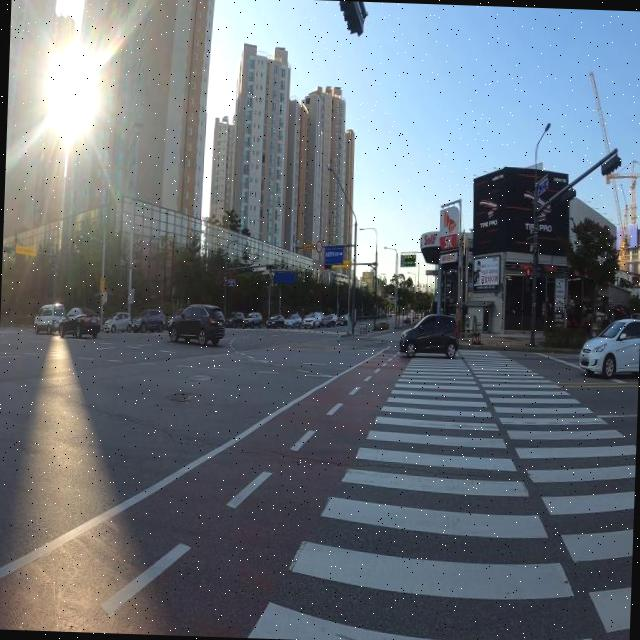crosswalk: (247, 344, 636, 640), (224, 326, 351, 335)
